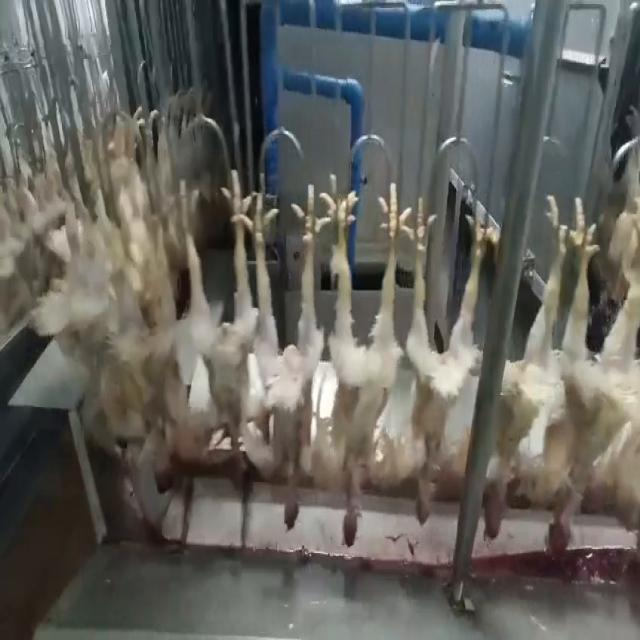chicken: (319, 171, 421, 549), (396, 185, 498, 524), (549, 196, 639, 561), (240, 175, 327, 530), (482, 197, 570, 541), (169, 166, 241, 470), (120, 172, 170, 468)
